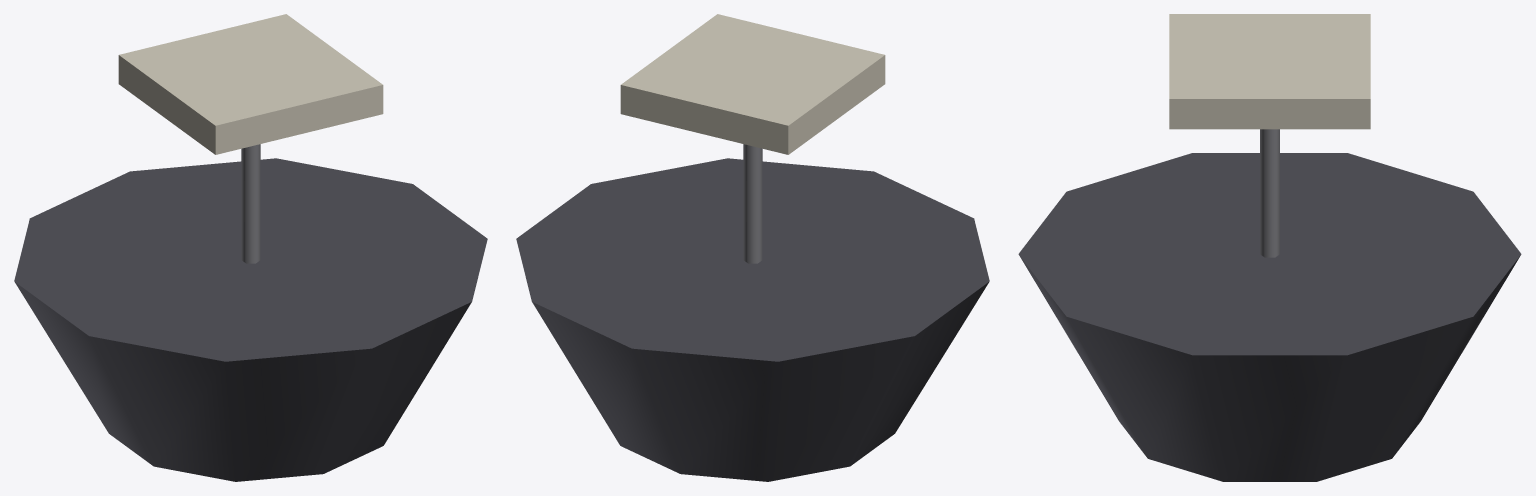
The model's file is SM_P0_Ceiling_Lamp_A.obj.
3 views of the same model, side by side, from view 1: azimuth 30°, elevation 25°; view 2: azimuth 150°, elevation 25°; view 3: azimuth 270°, elevation 25° (orthographic). The views are drawn at different scales.
Parts seen in each view (by area): view 1: shade, rose_plate, cord; view 2: shade, rose_plate, cord; view 3: shade, rose_plate, cord.
Part boxes in pixels (x1=…): shade: x1=14, y1=158, x2=487, y2=481; rose_plate: x1=118, y1=14, x2=383, y2=154; cord: x1=241, y1=144, x2=260, y2=263; shade: x1=516, y1=158, x2=989, y2=481; rose_plate: x1=620, y1=14, x2=885, y2=154; cord: x1=743, y1=144, x2=762, y2=263; shade: x1=1018, y1=153, x2=1521, y2=481; rose_plate: x1=1169, y1=14, x2=1370, y2=129; cord: x1=1260, y1=129, x2=1279, y2=257.
Size of the model in its own units: 0.2853 by 0.245 by 0.3.
